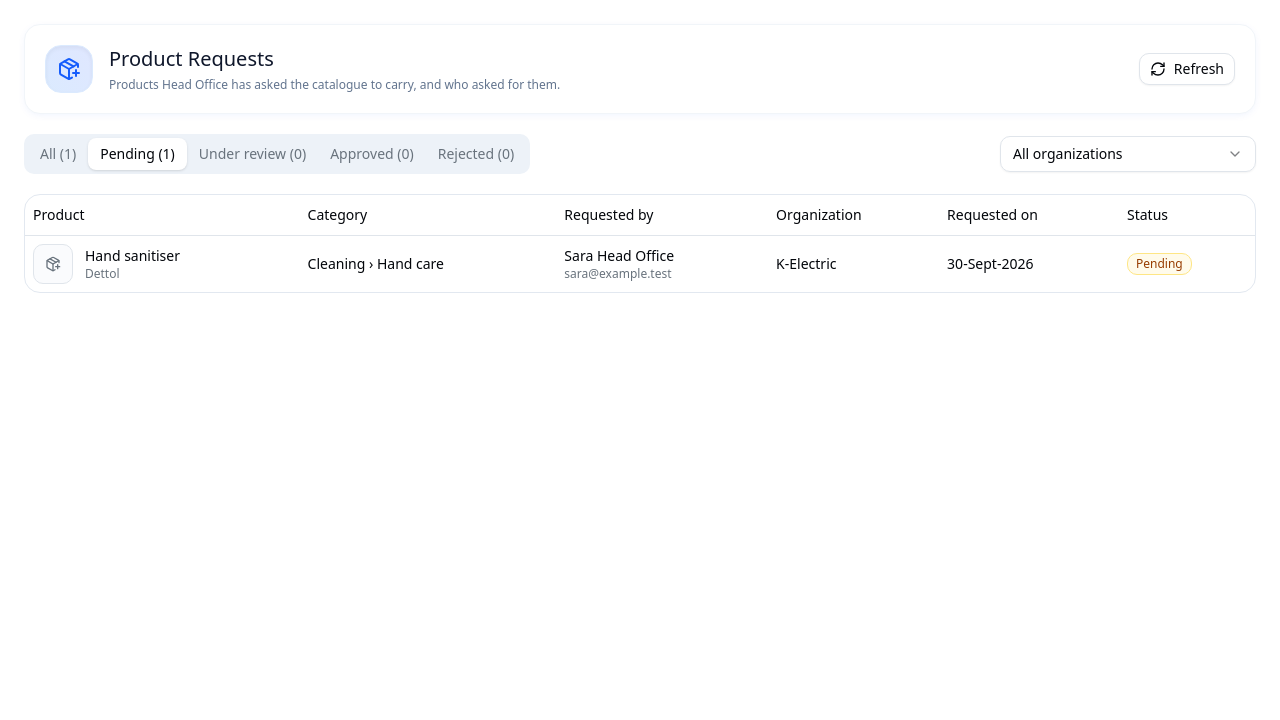
Test: ProductRequestsView for Super Admin › approves a pending request with its note and date and refreshes the list
The width and height of the screenshot is (1280, 720).
Click the row named "Open request for Hand sanitiser": point(640, 263) [25, 235, 1255, 292]
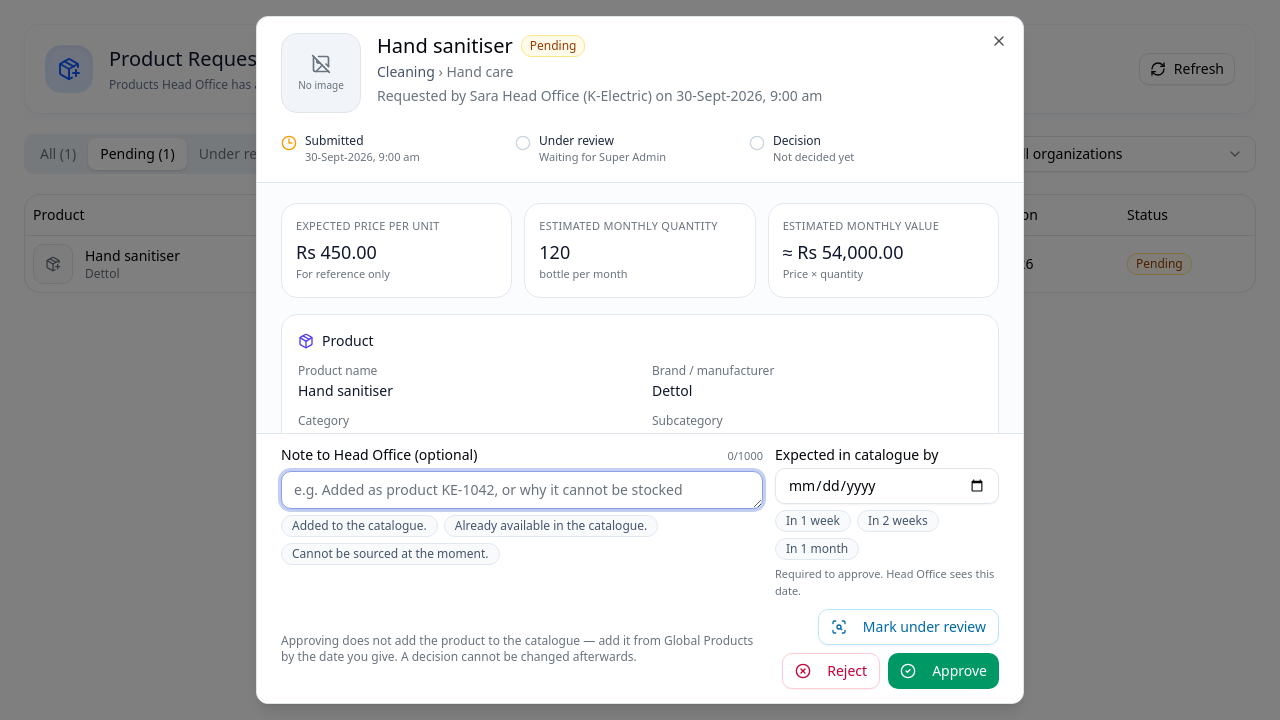
In the text box labelled "Note to Head Office (optional)": point(522, 490) [281, 470, 763, 508], type "Added as KE-9001"
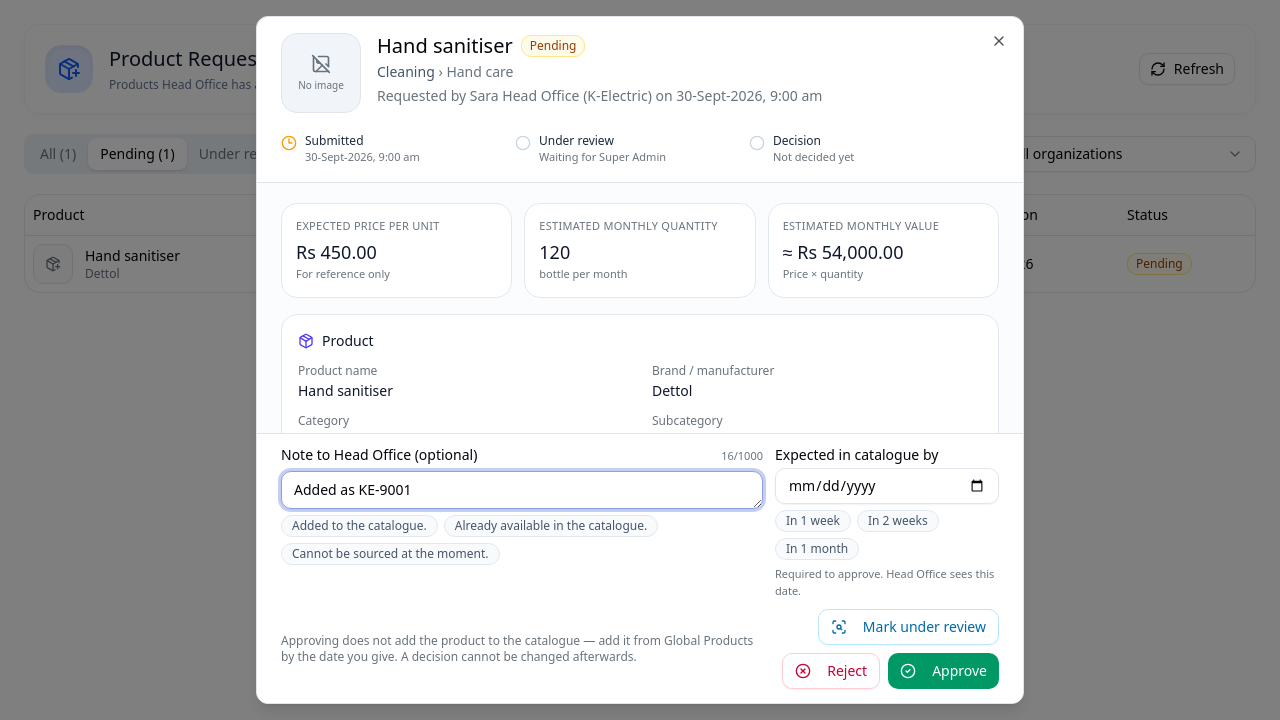
In the date field labelled "Expected in catalogue by": point(887, 486) [775, 468, 999, 504], type "2026-10-15"
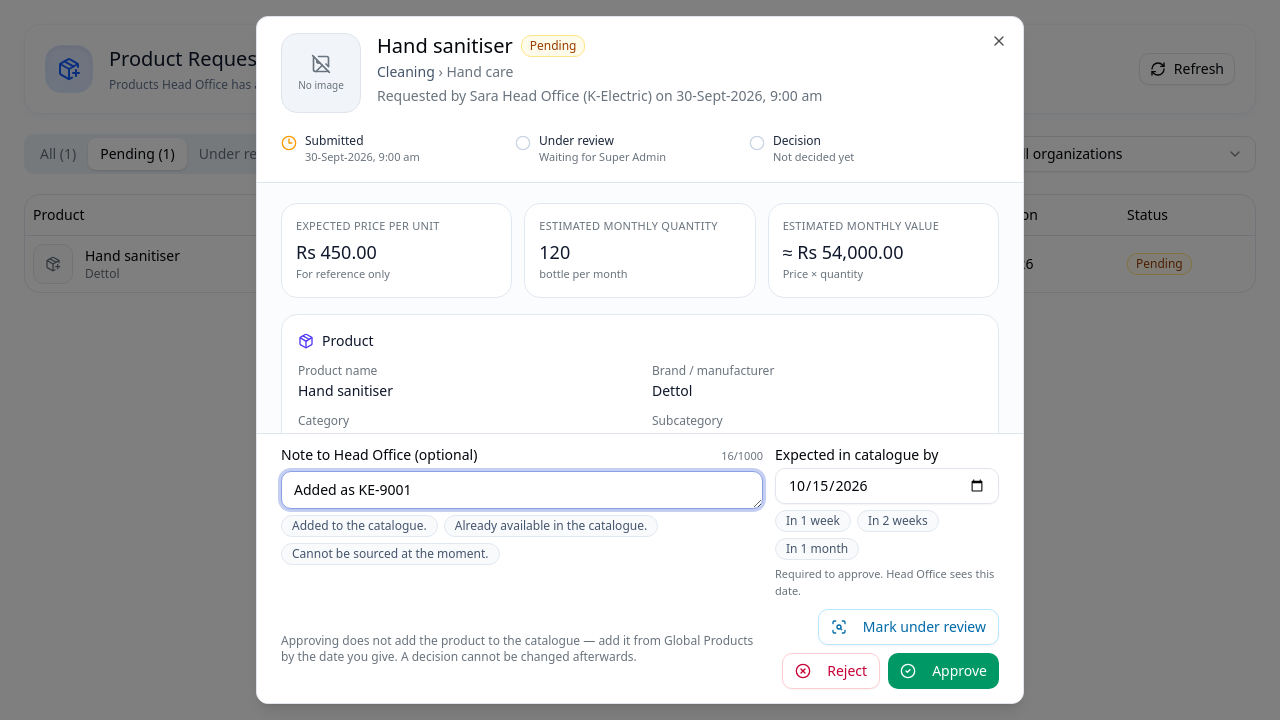
Click the button "Approve": point(944, 671) [888, 653, 999, 689]
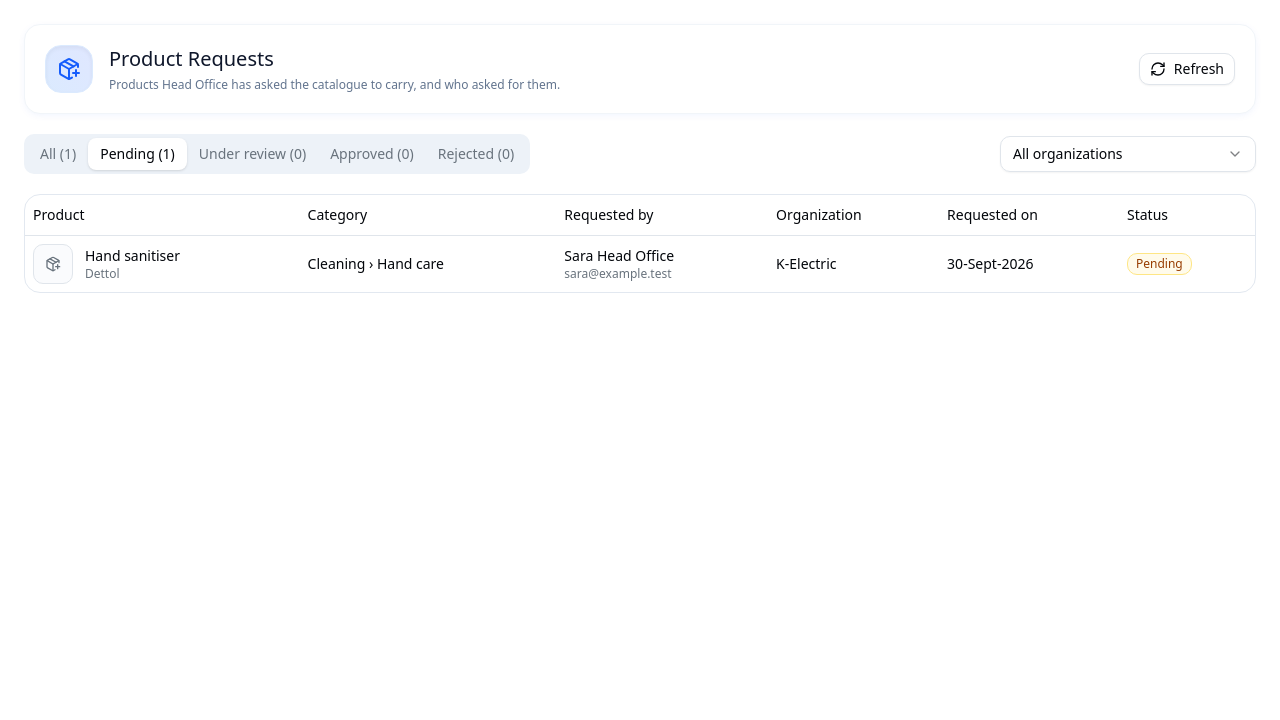
Now the dialog is gone
